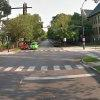Crosswalk: (3, 59, 87, 84)
